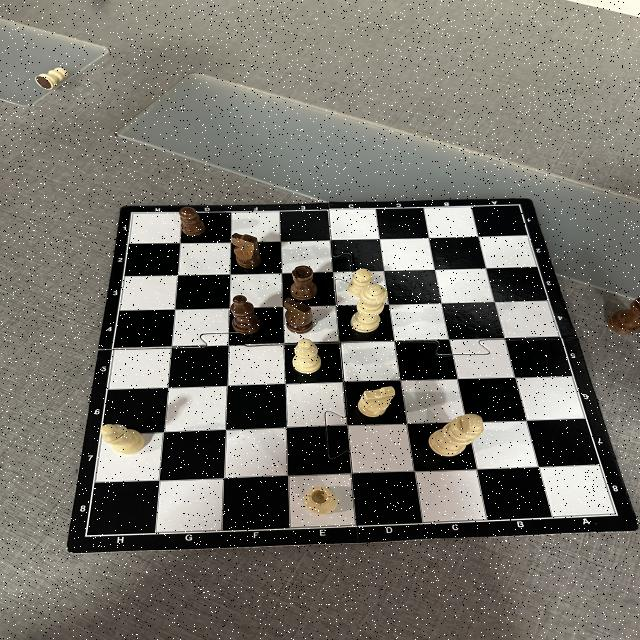Black-Bishop: (230, 295, 262, 335)
Black-Knight: (232, 232, 264, 268), (284, 296, 314, 334)
Black-Pawn: (180, 206, 208, 236)
Black-Rook: (290, 265, 318, 301)
White-Bishop: (100, 424, 146, 454), (292, 338, 322, 374)
White-King: (428, 413, 485, 458)
White-Knight: (358, 386, 396, 418)
White-Pawn: (348, 268, 373, 298), (48, 66, 70, 82)
White-Queen: (351, 284, 388, 333)
White-Rook: (304, 486, 338, 514)
